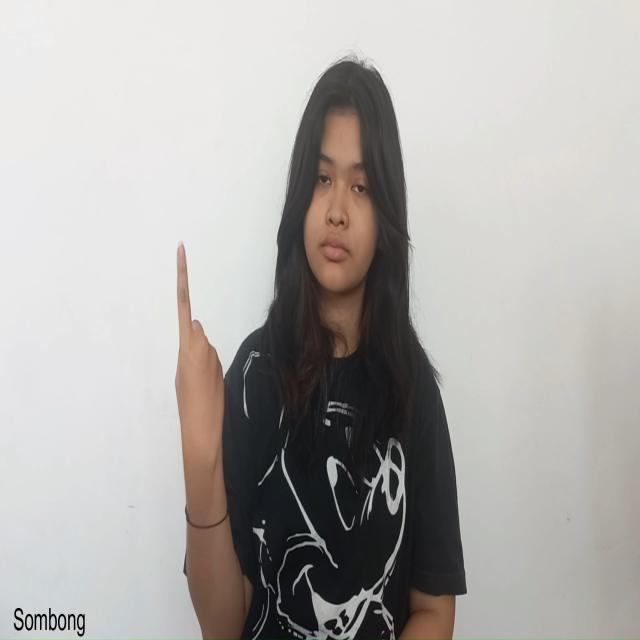Sombong -BISINDO-: (173, 237, 226, 480)
